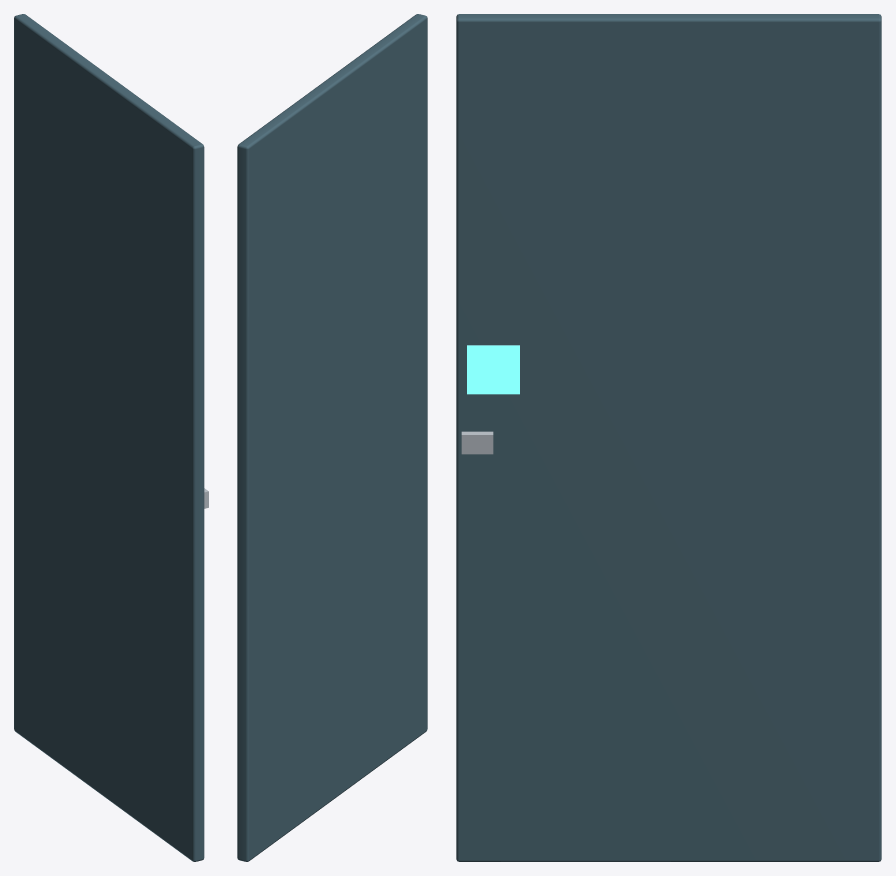
The model's file is StallDoor.fbx.
3 views of the same model, side by side, from view 1: azimuth 30°, elevation 25°; view 2: azimuth 150°, elevation 25°; view 3: azimuth 270°, elevation 25° (orthographic). The views are drawn at different scales.
Visible parts, largest first — view 1: StallDoorBody; view 2: StallDoorBody; view 3: StallDoorBody.
Part boxes in pixels (bbox=[...]): StallDoorBody: bbox=[14, 14, 208, 861]; StallDoorBody: bbox=[237, 14, 427, 861]; StallDoorBody: bbox=[456, 14, 881, 861].
Size of the model in its own units: 0.045 by 1.75 by 0.8.
